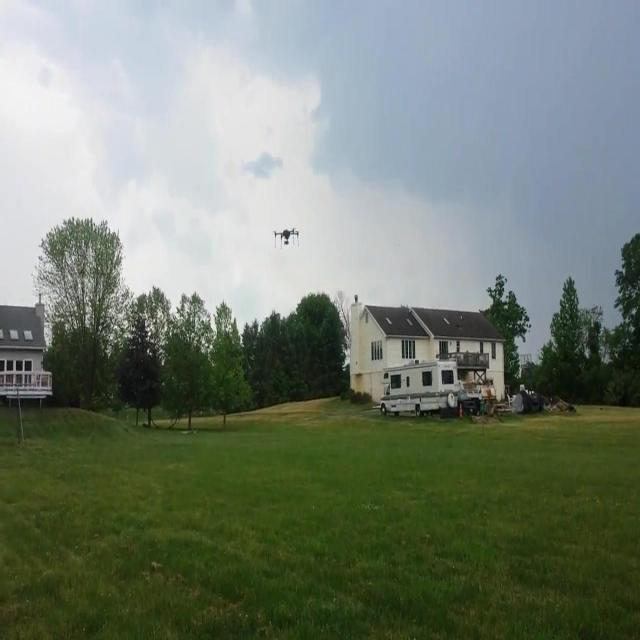UAV: (273, 228, 299, 250)
